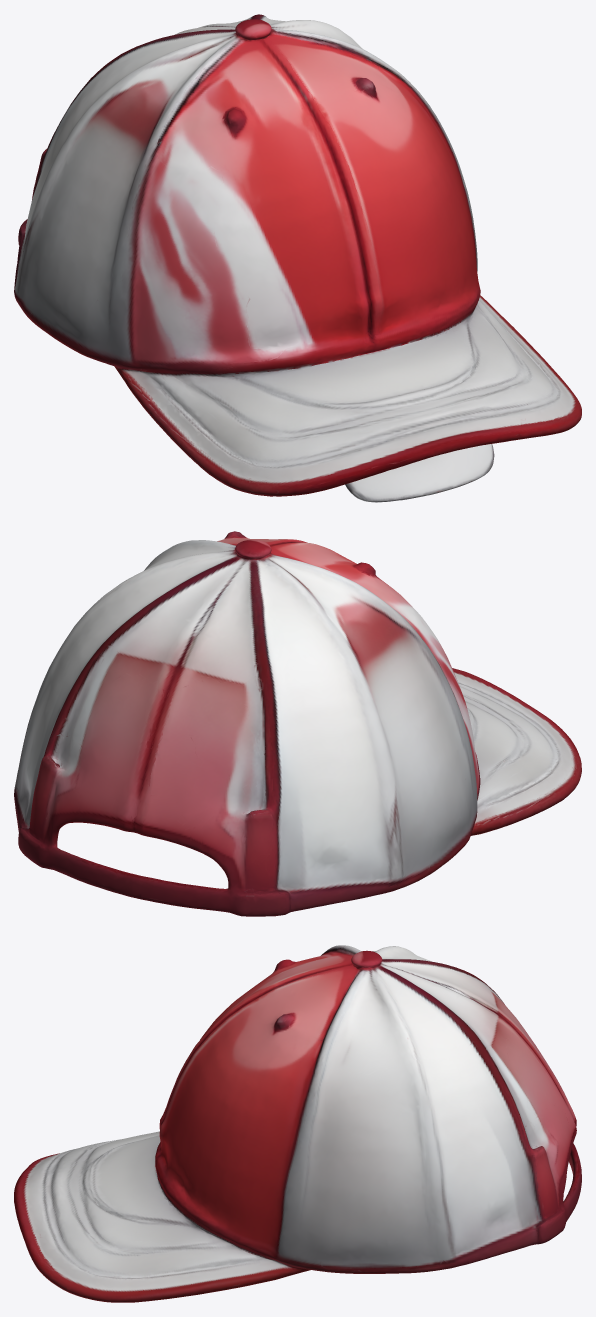
The model's file is cap3d_mit.glb.
3 renders of one model, top to bottom at view 1: azimuth 30°, elevation 25°; view 2: azimuth 150°, elevation 25°; view 3: azimuth 270°, elevation 25°, orthographic. The views are drawn at different scales.
Parts seen in each view (by area): view 1: geometry_0; view 2: geometry_0; view 3: geometry_0.
Boxes of the visible parts, <box> form: geometry_0: <box>14,14,581,502</box>; geometry_0: <box>14,531,581,916</box>; geometry_0: <box>14,945,581,1302</box>.
Size of the model in its own units: 0.7118 by 0.5764 by 0.9994.
1 material, 1 textured.
